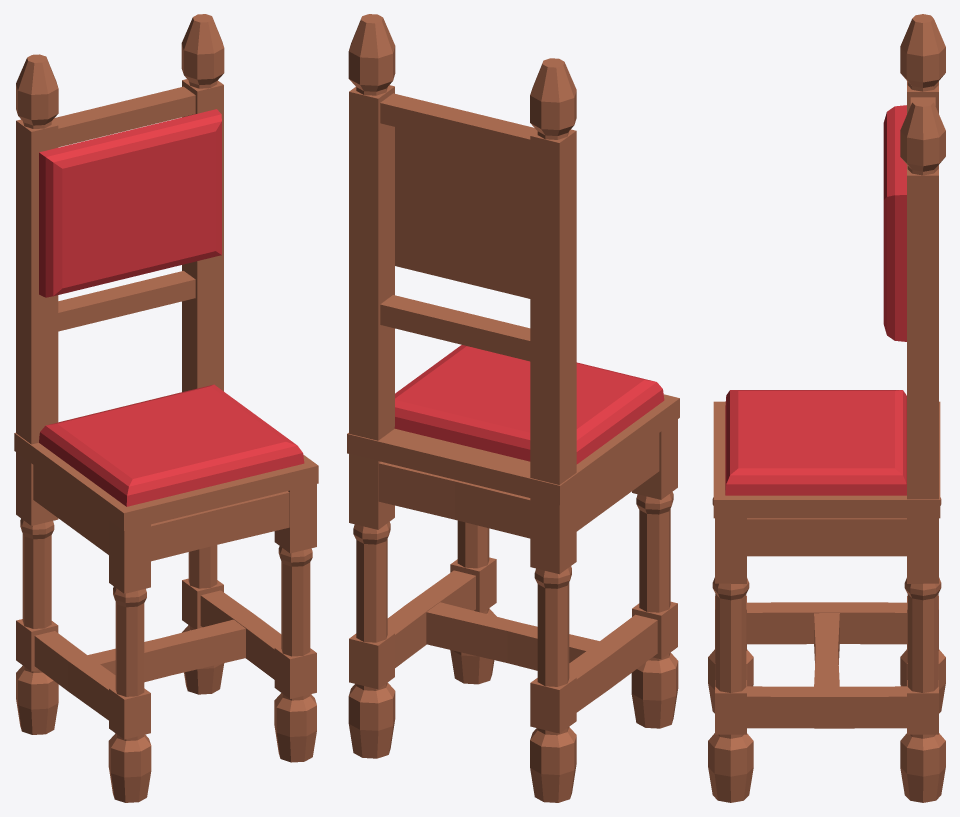
The model's file is Chair02.fbx.
The picture shows the model from 3 angles, left to right: view 1: azimuth 30°, elevation 25°; view 2: azimuth 150°, elevation 25°; view 3: azimuth 270°, elevation 25°; orthographic projection. The views are drawn at different scales.
Visible parts, largest first — view 1: Chair 02.002, Chair 02, Chair 02.004, Chair 02.003, Chair 02.006, Chair 02.007, Chair 02.005; view 2: Chair 02.002, Chair 02, Chair 02.004, Chair 02.003, Chair 02.007, Chair 02.005, Chair 02.006; view 3: Chair 02, Chair 02.002, Chair 02.007, Chair 02.003, Chair 02.006, Chair 02.004, Chair 02.005.
Part boxes in pixels (bbox=[...]): Chair 02.002: bbox=[16, 14, 224, 444]; Chair 02: bbox=[14, 384, 318, 530]; Chair 02.004: bbox=[16, 518, 151, 802]; Chair 02.003: bbox=[16, 452, 316, 593]; Chair 02.006: bbox=[274, 546, 316, 762]; Chair 02.007: bbox=[182, 545, 281, 694]; Chair 02.005: bbox=[87, 619, 245, 682]; Chair 02.002: bbox=[348, 14, 576, 484]; Chair 02: bbox=[347, 345, 679, 505]; Chair 02.004: bbox=[530, 492, 678, 802]; Chair 02.003: bbox=[349, 419, 677, 574]; Chair 02.007: bbox=[348, 522, 475, 758]; Chair 02.005: bbox=[426, 602, 599, 670]; Chair 02.006: bbox=[450, 520, 496, 684]; Chair 02: bbox=[713, 390, 940, 518]; Chair 02.002: bbox=[883, 14, 945, 499]; Chair 02.007: bbox=[747, 577, 945, 802]; Chair 02.003: bbox=[715, 518, 938, 583]; Chair 02.006: bbox=[708, 577, 753, 802]; Chair 02.004: bbox=[708, 497, 945, 713]; Chair 02.005: bbox=[814, 613, 839, 686].
Size of the model in its own units: 39.59 by 124 by 38.6.
